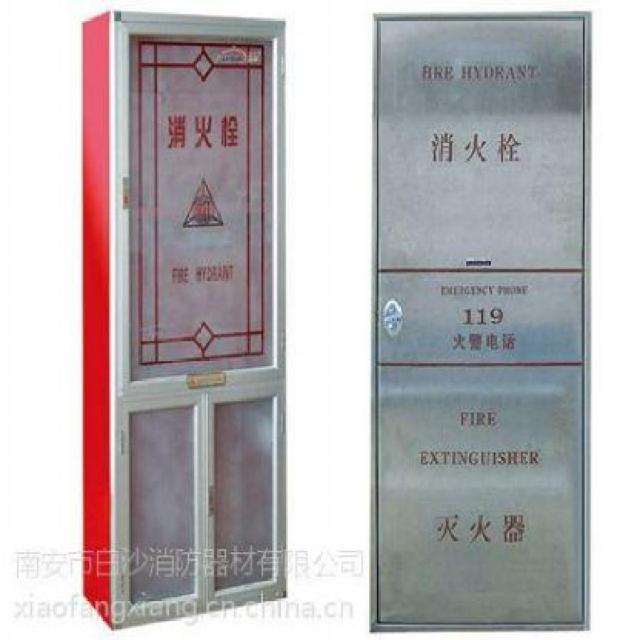firehydrant: (364, 6, 596, 633), (77, 5, 292, 637)
